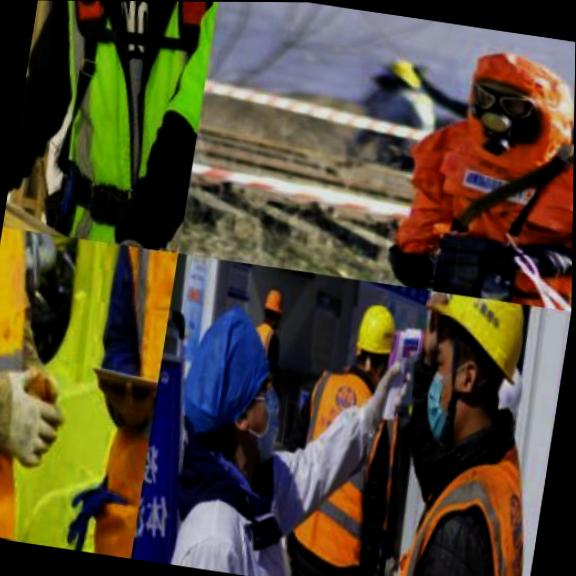safety_vest: (11, 0, 219, 252), (55, 241, 178, 559), (381, 109, 574, 310), (355, 387, 553, 576), (268, 373, 399, 576), (0, 227, 47, 539), (244, 329, 277, 381)
